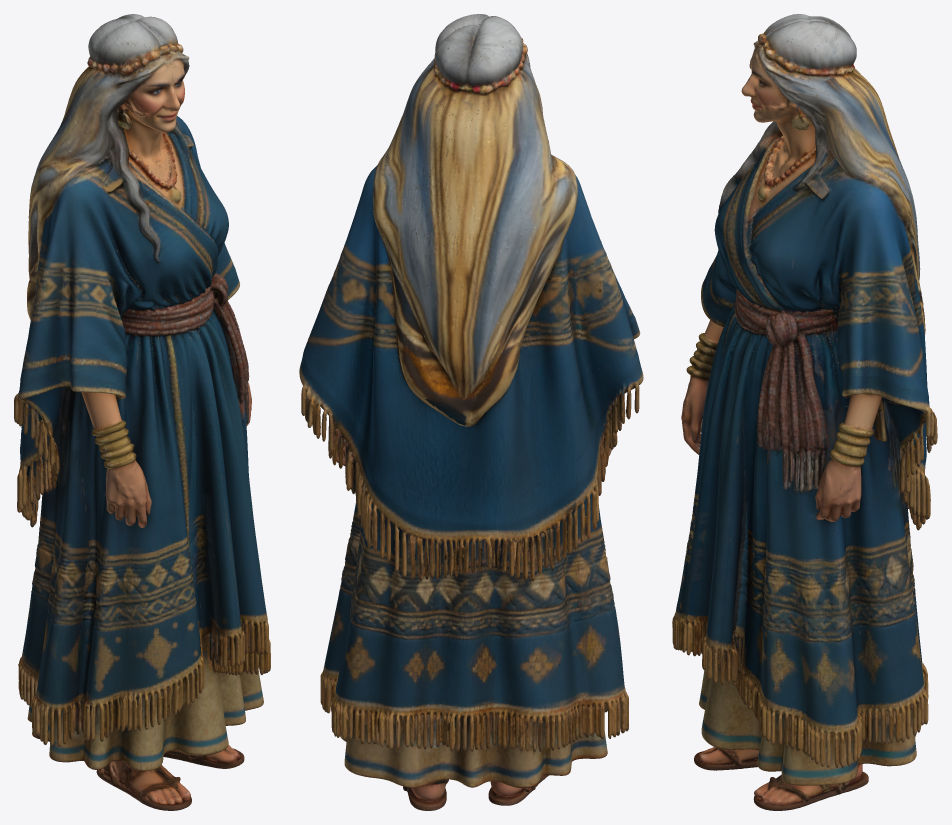
File: Meshy_AI_Sarah_0209042622_texture.glb
3 views of the same model, side by side, from view 1: azimuth 30°, elevation 25°; view 2: azimuth 150°, elevation 25°; view 3: azimuth 270°, elevation 25° (orthographic). The views are drawn at different scales.
Bounding box in the file's own units: 0.7671 × 2 × 0.6401.
1 material, 1 textured.
